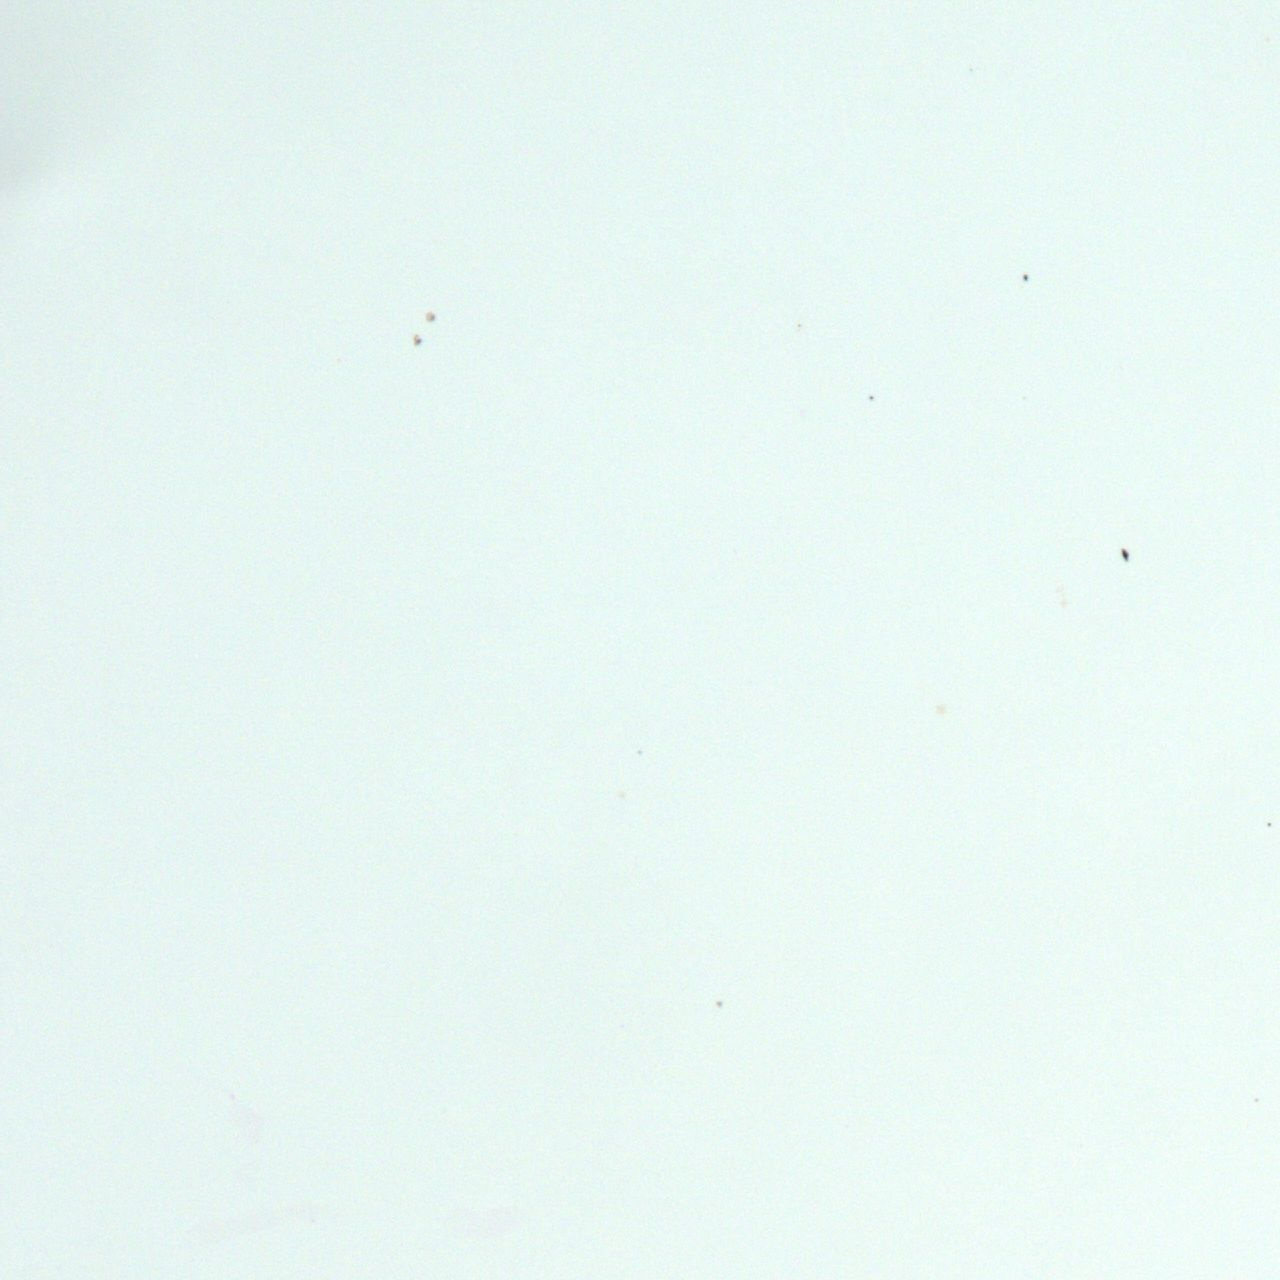dust: (1121, 549, 1129, 560), (413, 333, 420, 346), (425, 311, 434, 321), (1023, 273, 1027, 280), (869, 395, 873, 399), (1267, 822, 1271, 826)
